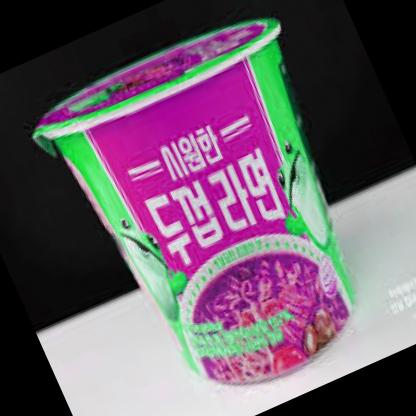Ramen: (23, 4, 405, 416)
